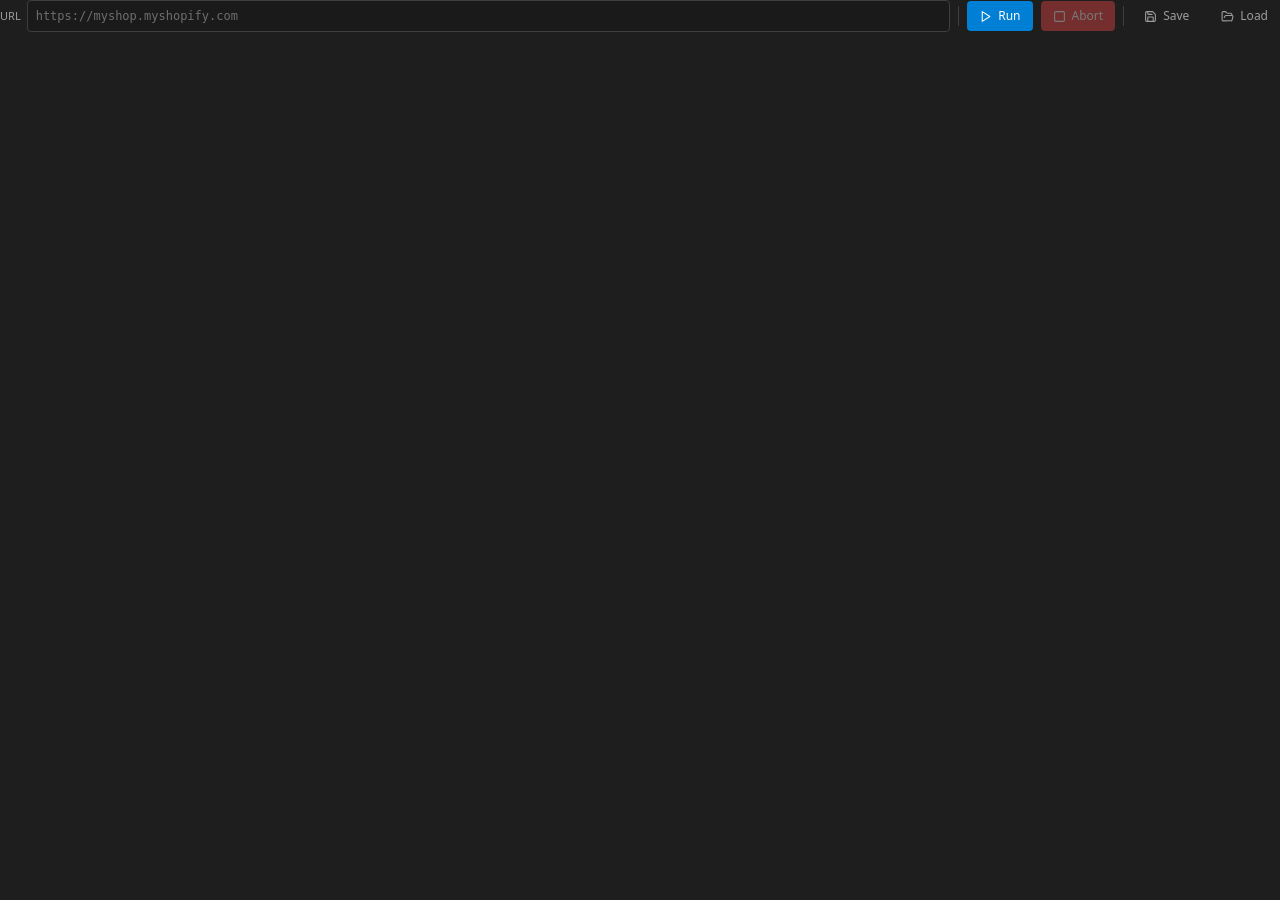
Test: Toolbar › opens Load dialog when Load button is clicked
Click the button with aria-label "load test suite" at {"x": 1245, "y": 16}, box [1209,1,1279,31]
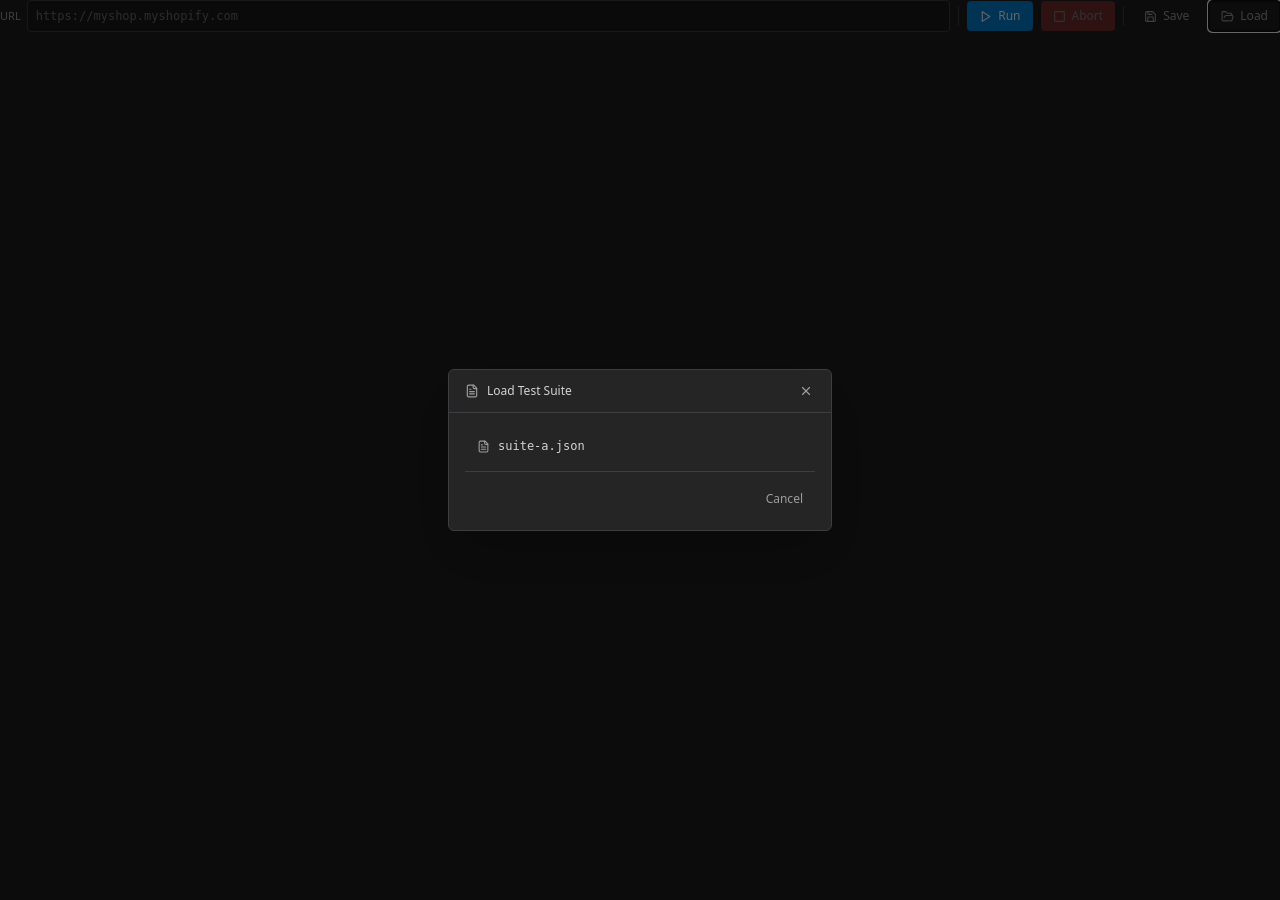
Expected: the dialog "Load Test Suite suite-a.json Cancel" is shown
